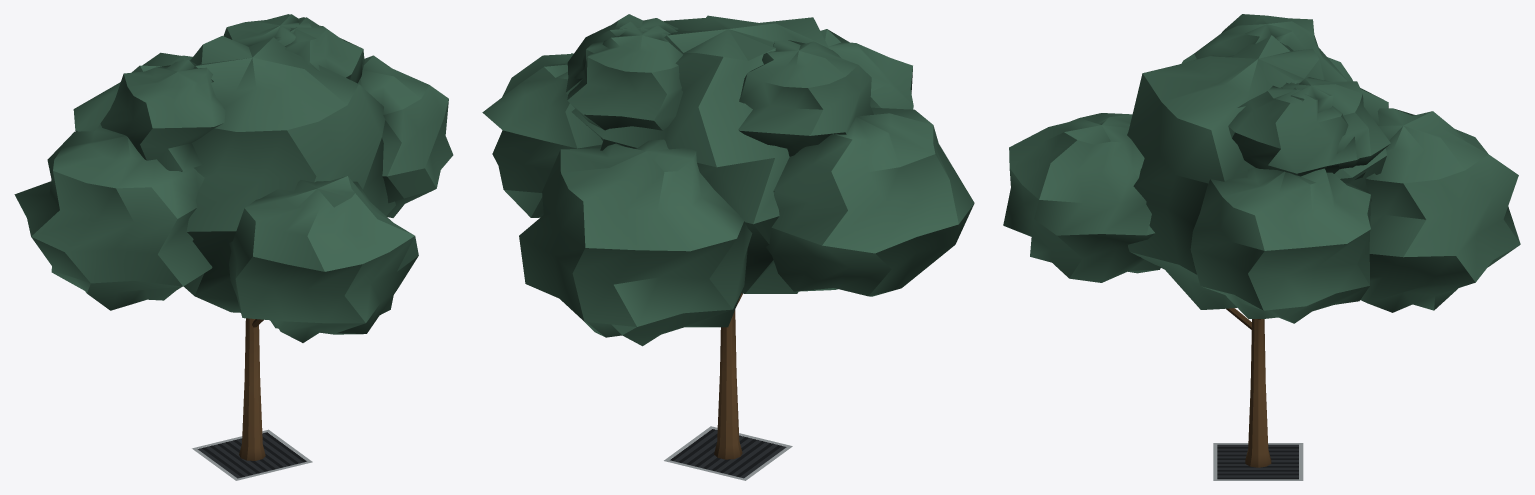
The model's file is tree-round.lod0.glb.
3 views of the same model, side by side, from view 1: azimuth 30°, elevation 25°; view 2: azimuth 150°, elevation 25°; view 3: azimuth 270°, elevation 25° (orthographic). The views are drawn at different scales.
Visible parts, largest first — view 1: structure; view 2: structure; view 3: structure.
Part boxes in pixels (left/top/right/bottom): structure: left=14, top=14, right=453, bottom=480; structure: left=482, top=14, right=974, bottom=480; structure: left=1003, top=14, right=1520, bottom=480.
Bounding box in the file's own units: 9.32 × 8.41 × 9.76.
